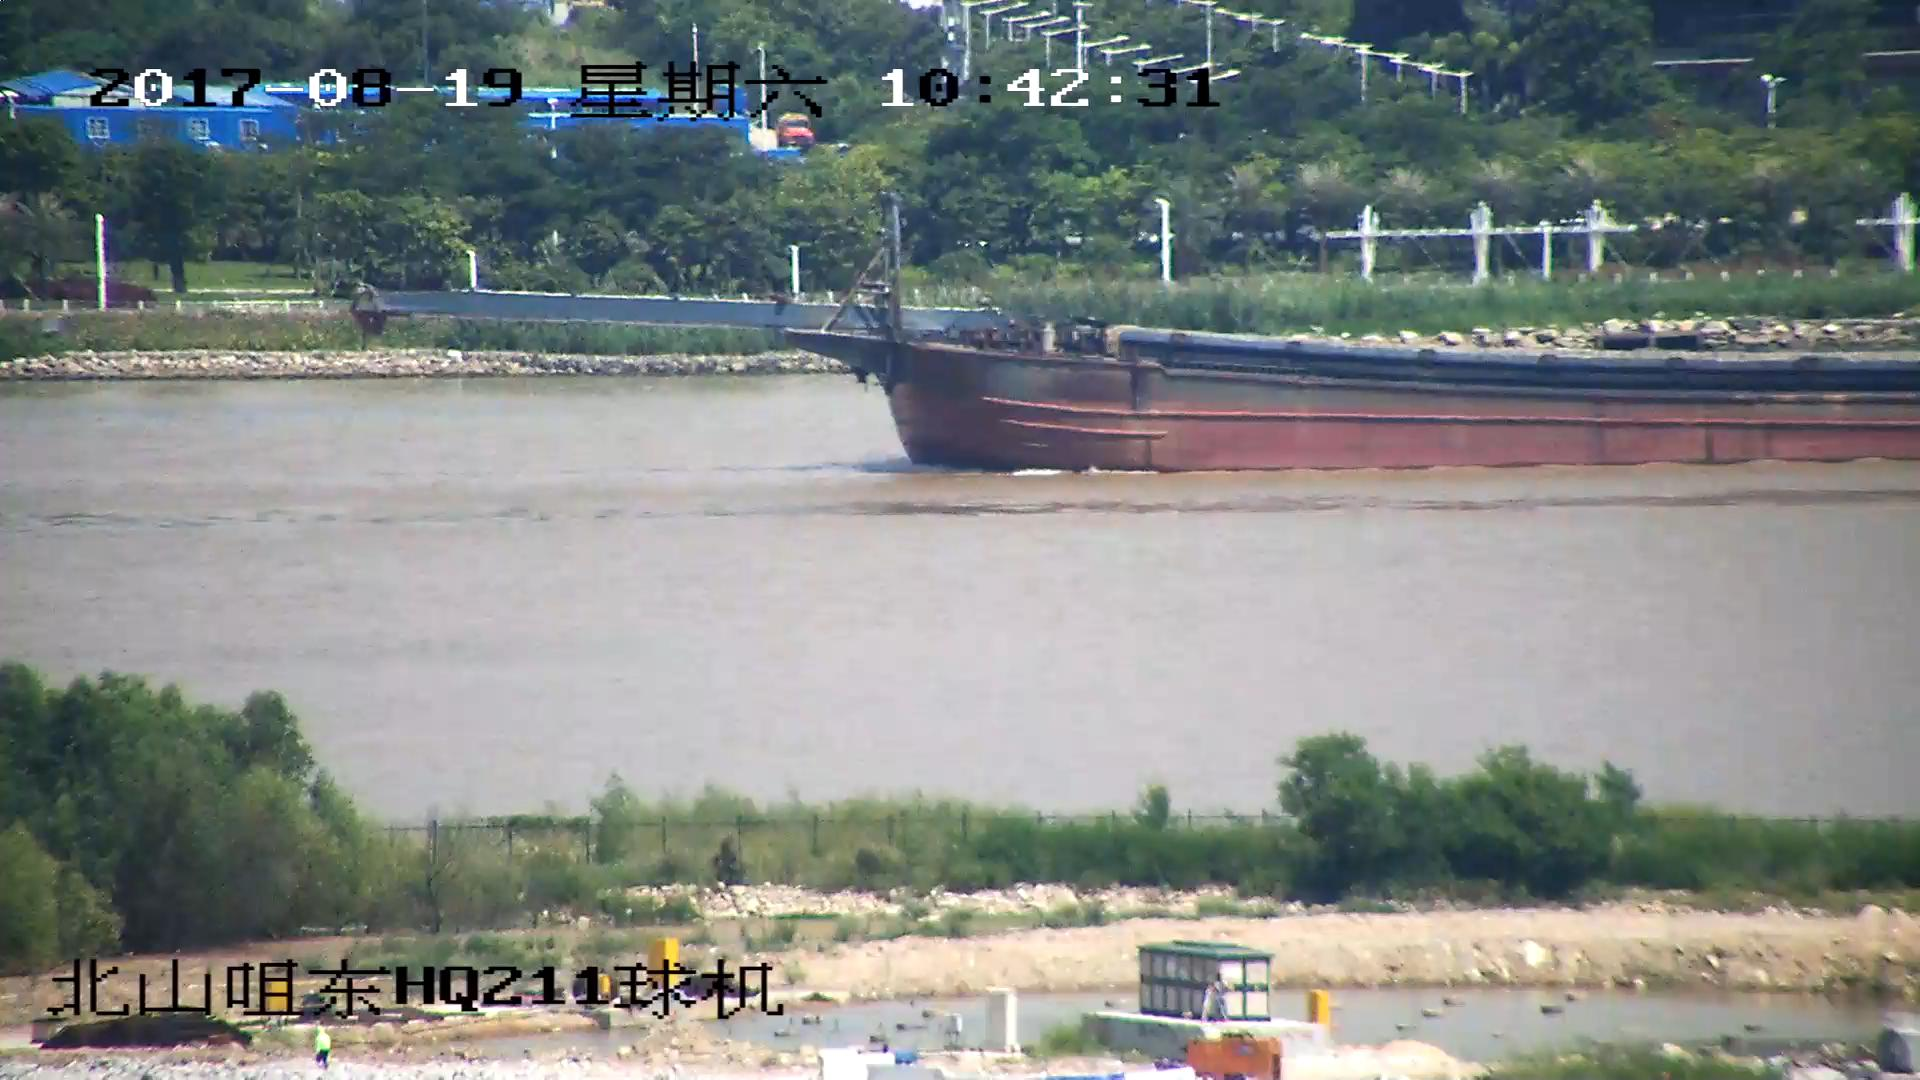bulk cargo carrier: (356, 202, 1920, 471)
